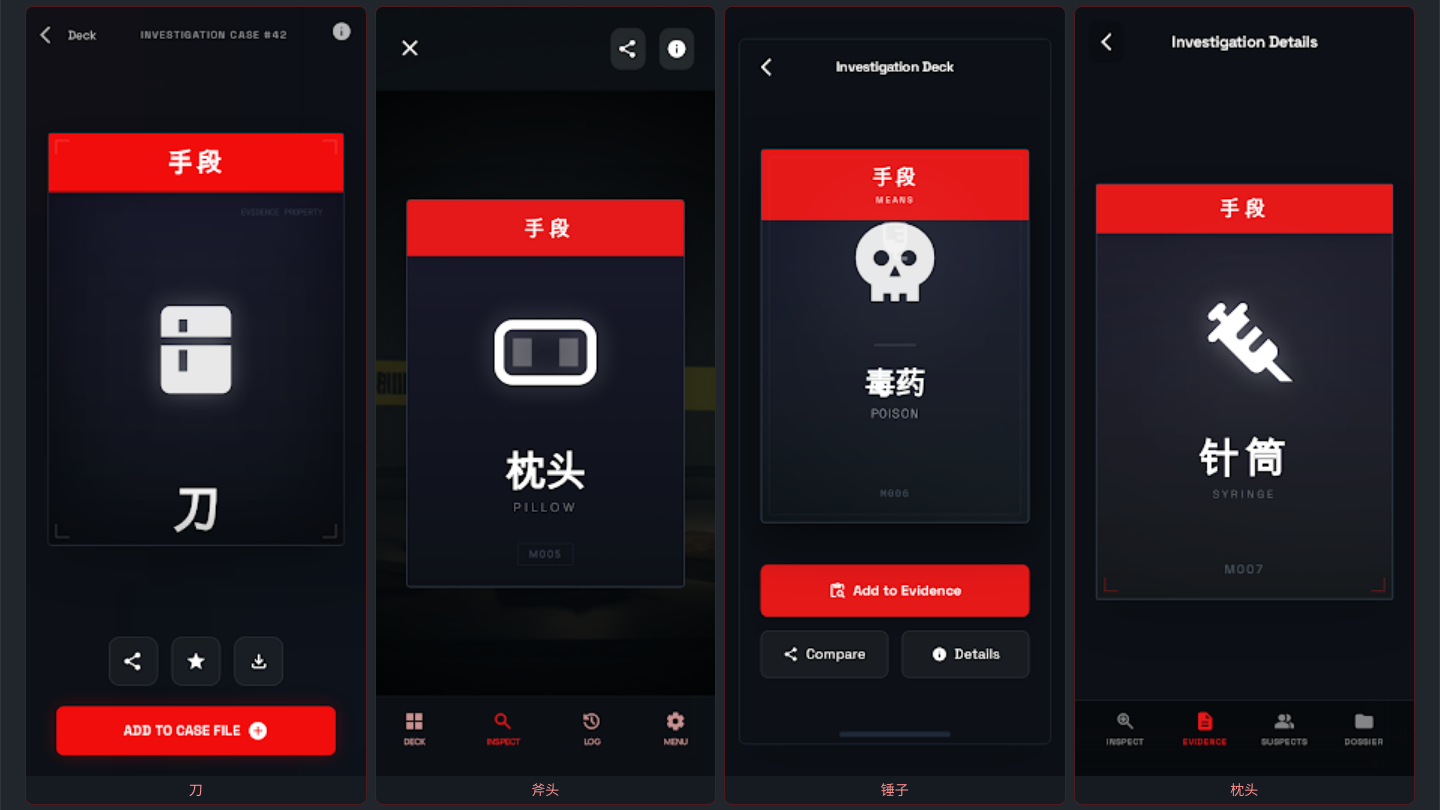
Test: readable player card inspection › closes a stale card detail when effects replace the public hand
(page scrolled)
Click the button "刀" at (196, 406), box [25,6,366,805]
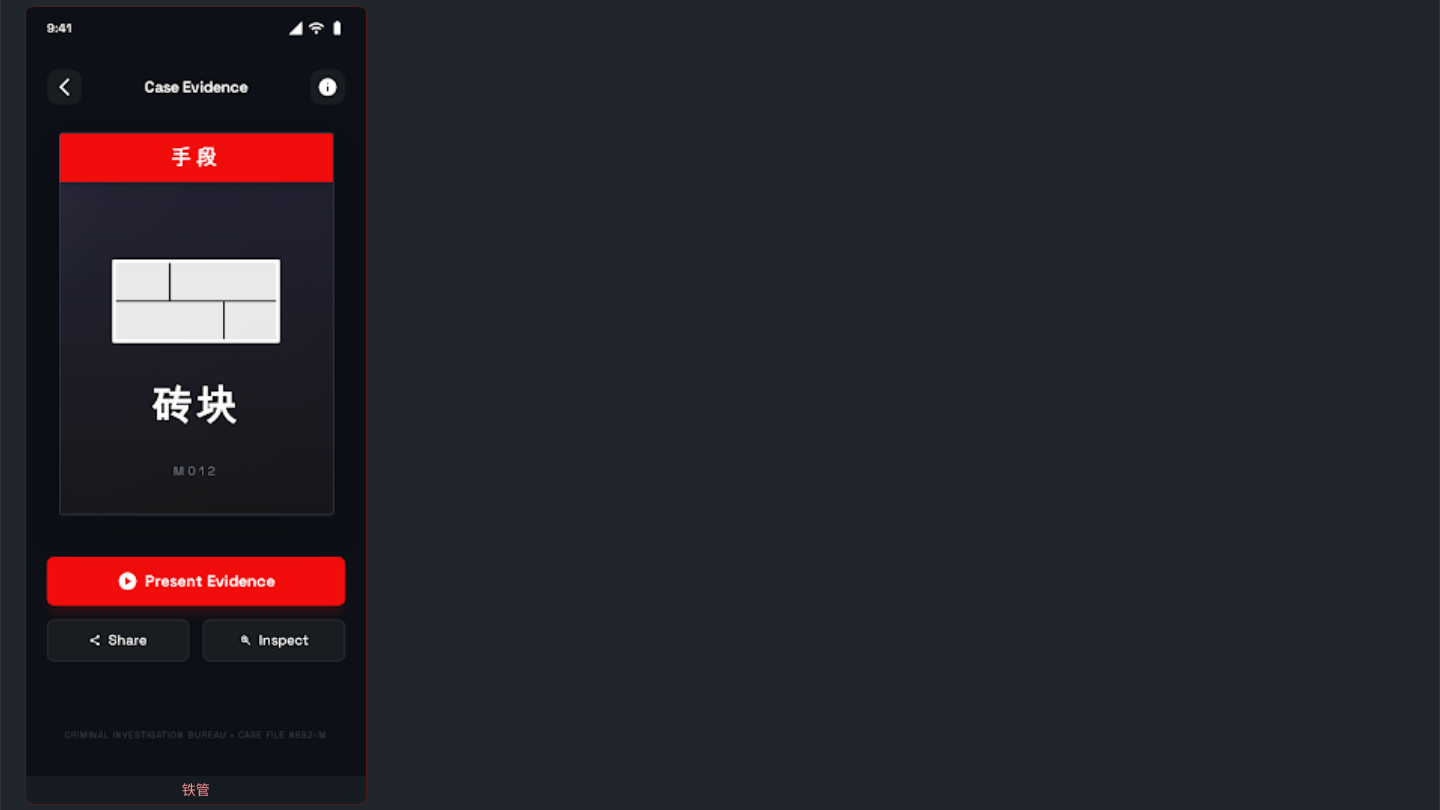
Result: the text "铁管" is shown at [182,781,210,799]
Result: the number of buttons is 5
